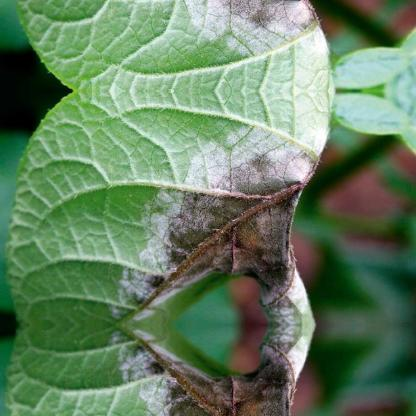Early-Blight: (97, 103, 323, 323), (97, 325, 323, 416), (97, 0, 323, 77)
